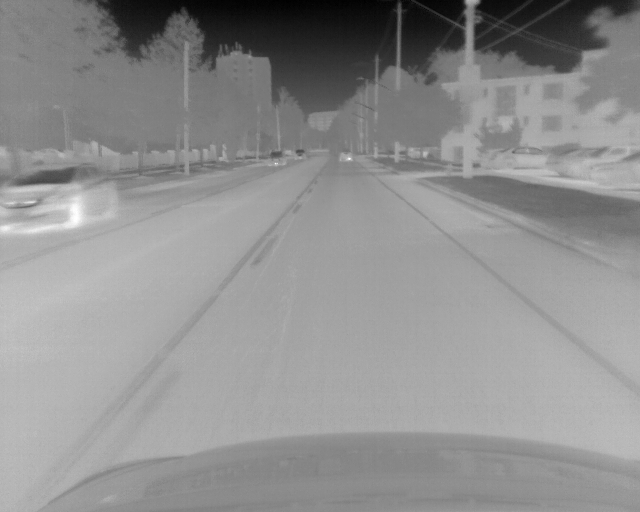car: (1, 160, 120, 235), (569, 145, 638, 179), (592, 153, 640, 189), (486, 145, 549, 168), (549, 148, 578, 181), (267, 149, 286, 166), (338, 150, 352, 163), (292, 148, 306, 161)
